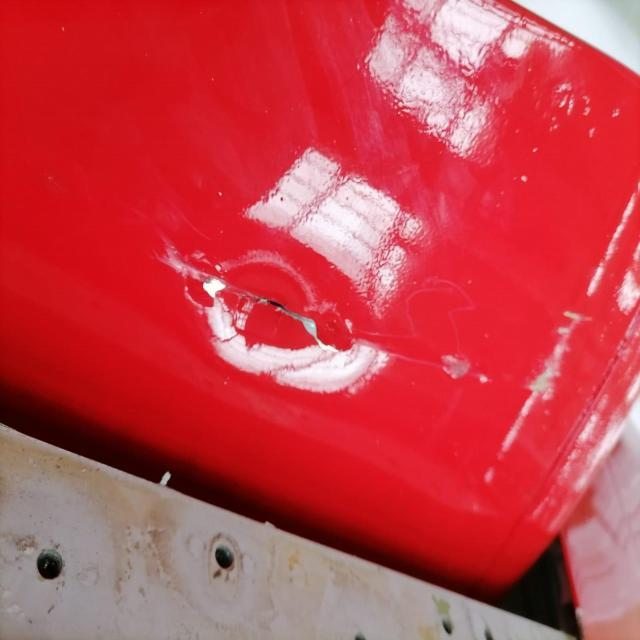crack: (158, 222, 432, 393)
